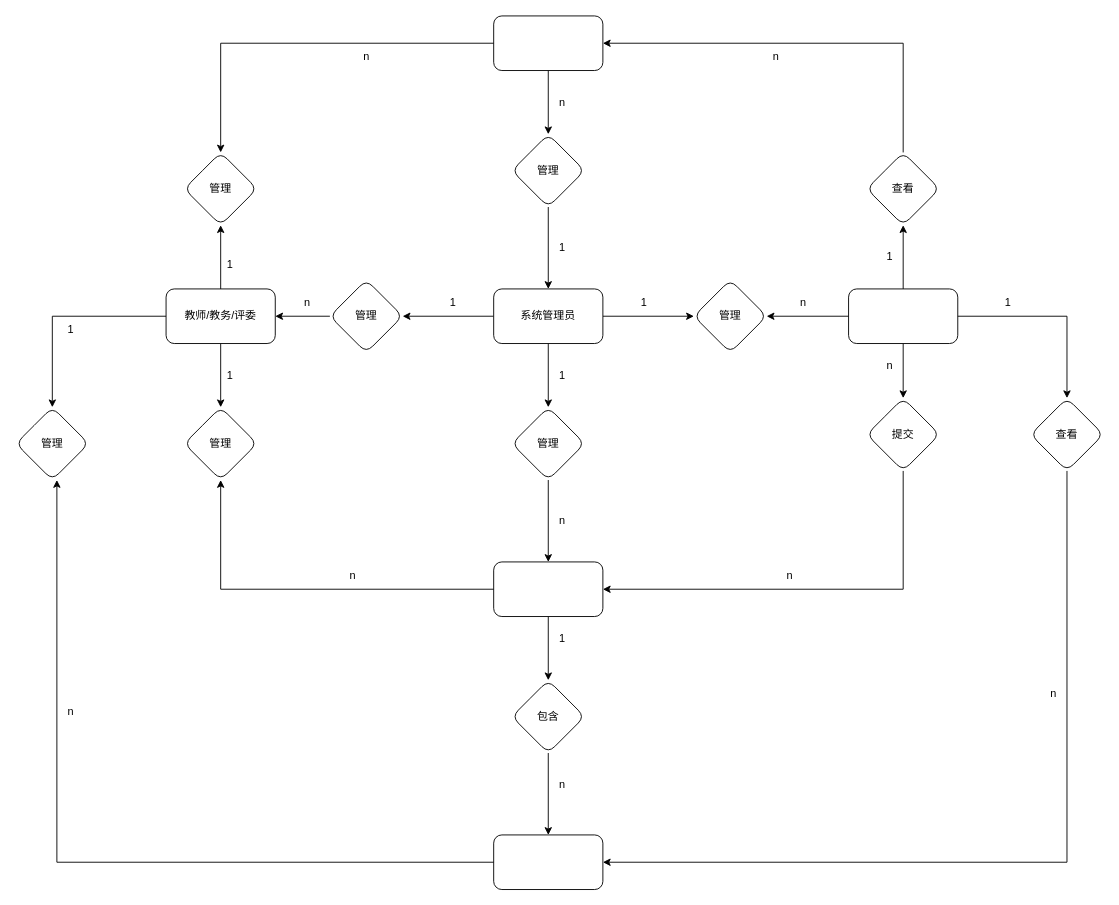
Image size: 1119x905. Some labels were removed from this diagram. Each missing label, with the box of its shape:
学生: (848, 288, 958, 344)
成绩信息: (493, 15, 603, 71)
报名申请: (493, 561, 603, 617)
项目信息: (493, 834, 603, 890)
